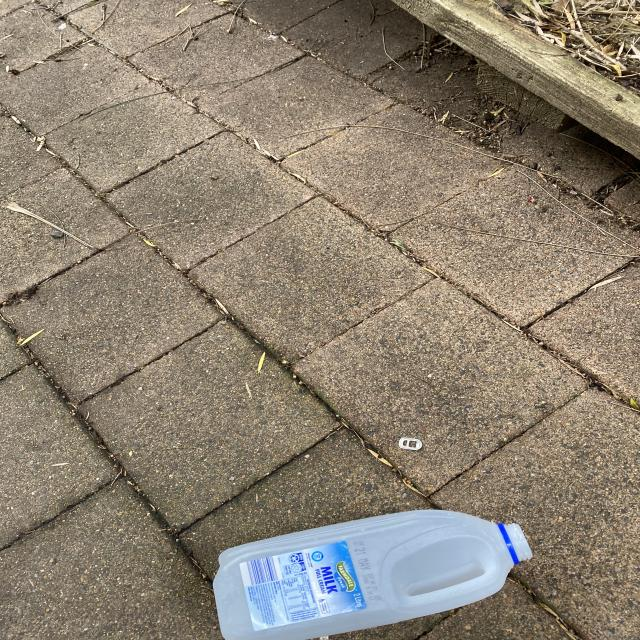bottle: (210, 506, 540, 638)
